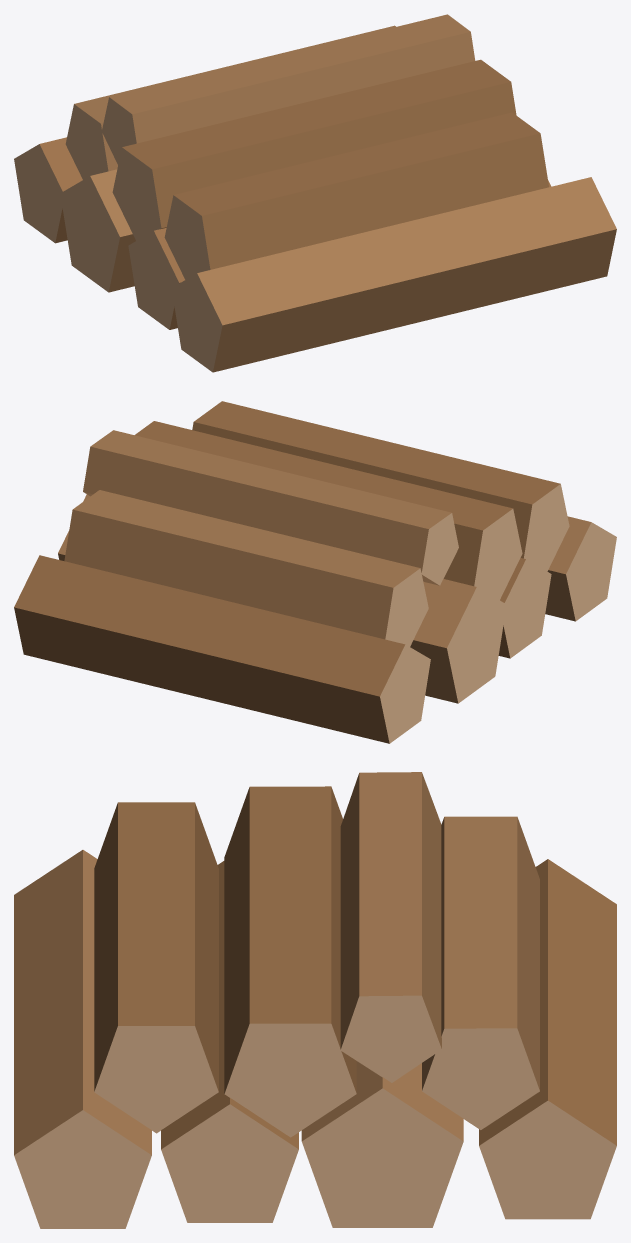
The model's file is Pine_Firewood_Pile_01_LOD.fbx.
3 views of the same model, one above another, from view 1: azimuth 30°, elevation 25°; view 2: azimuth 150°, elevation 25°; view 3: azimuth 270°, elevation 25° (orthographic). The views are drawn at different scales.
Parts seen in each view (by area): view 1: Pine_Firewood_Pile_01_LOD0; view 2: Pine_Firewood_Pile_01_LOD0; view 3: Pine_Firewood_Pile_01_LOD0.
Boxes of the visible parts, x1=… form: Pine_Firewood_Pile_01_LOD0: x1=14, y1=14, x2=616, y2=372; Pine_Firewood_Pile_01_LOD0: x1=14, y1=401, x2=616, y2=743; Pine_Firewood_Pile_01_LOD0: x1=14, y1=772, x2=616, y2=1228.
Size of what is drawn, in the model's own units: 58.97 by 23.34 by 57.7.
